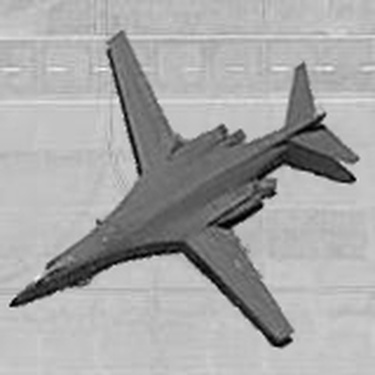airplane: (8, 17, 357, 344)
